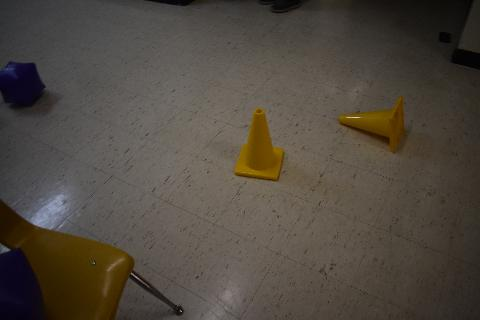cone: (339, 96, 405, 152), (236, 108, 284, 182)
cube: (0, 248, 44, 320), (1, 61, 45, 107)
